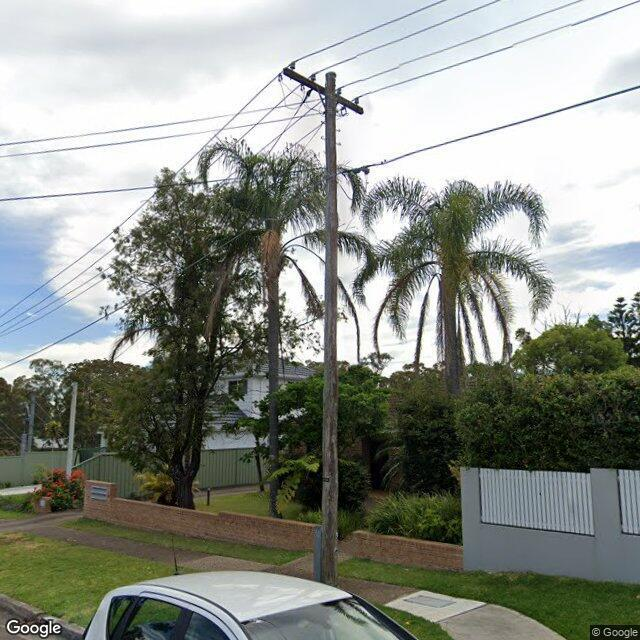crossarm: (282, 69, 365, 115)
steel-pole: (66, 381, 78, 476)
timber-pole: (320, 71, 340, 580)
